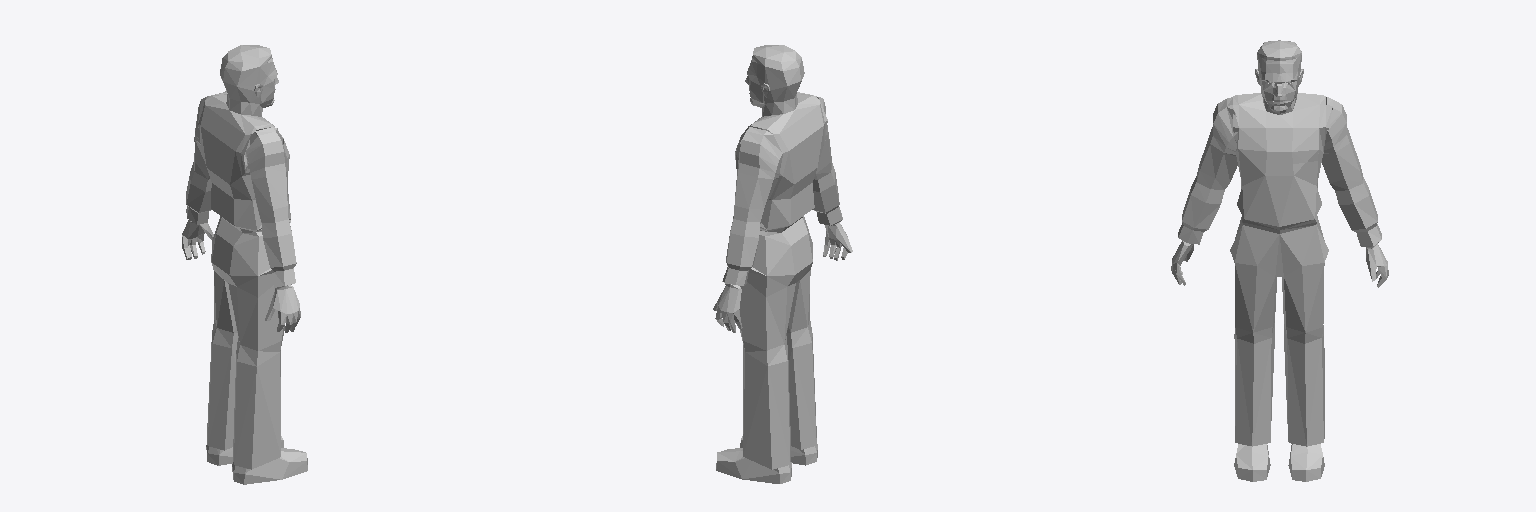
File: Capitan.obj
The picture shows the model from 3 angles: view 1: azimuth 30°, elevation 25°; view 2: azimuth 150°, elevation 25°; view 3: azimuth 270°, elevation 25°; orthographic projection.
Visible parts, largest first — view 1: marine, brazo001, brazo; view 2: marine, brazo, brazo001; view 3: marine, brazo, brazo001.
Part boxes in pixels (bbox=[...]): marine: bbox=[200, 45, 307, 484]; brazo001: bbox=[246, 127, 300, 332]; brazo: bbox=[182, 92, 225, 259]; marine: bbox=[716, 45, 827, 483]; brazo: bbox=[713, 127, 782, 332]; brazo001: bbox=[812, 96, 852, 260]; marine: bbox=[1230, 40, 1332, 481]; brazo: bbox=[1322, 97, 1388, 287]; brazo001: bbox=[1171, 97, 1237, 285].
Size of the model in its own units: 3.19 by 16.55 by 7.84.